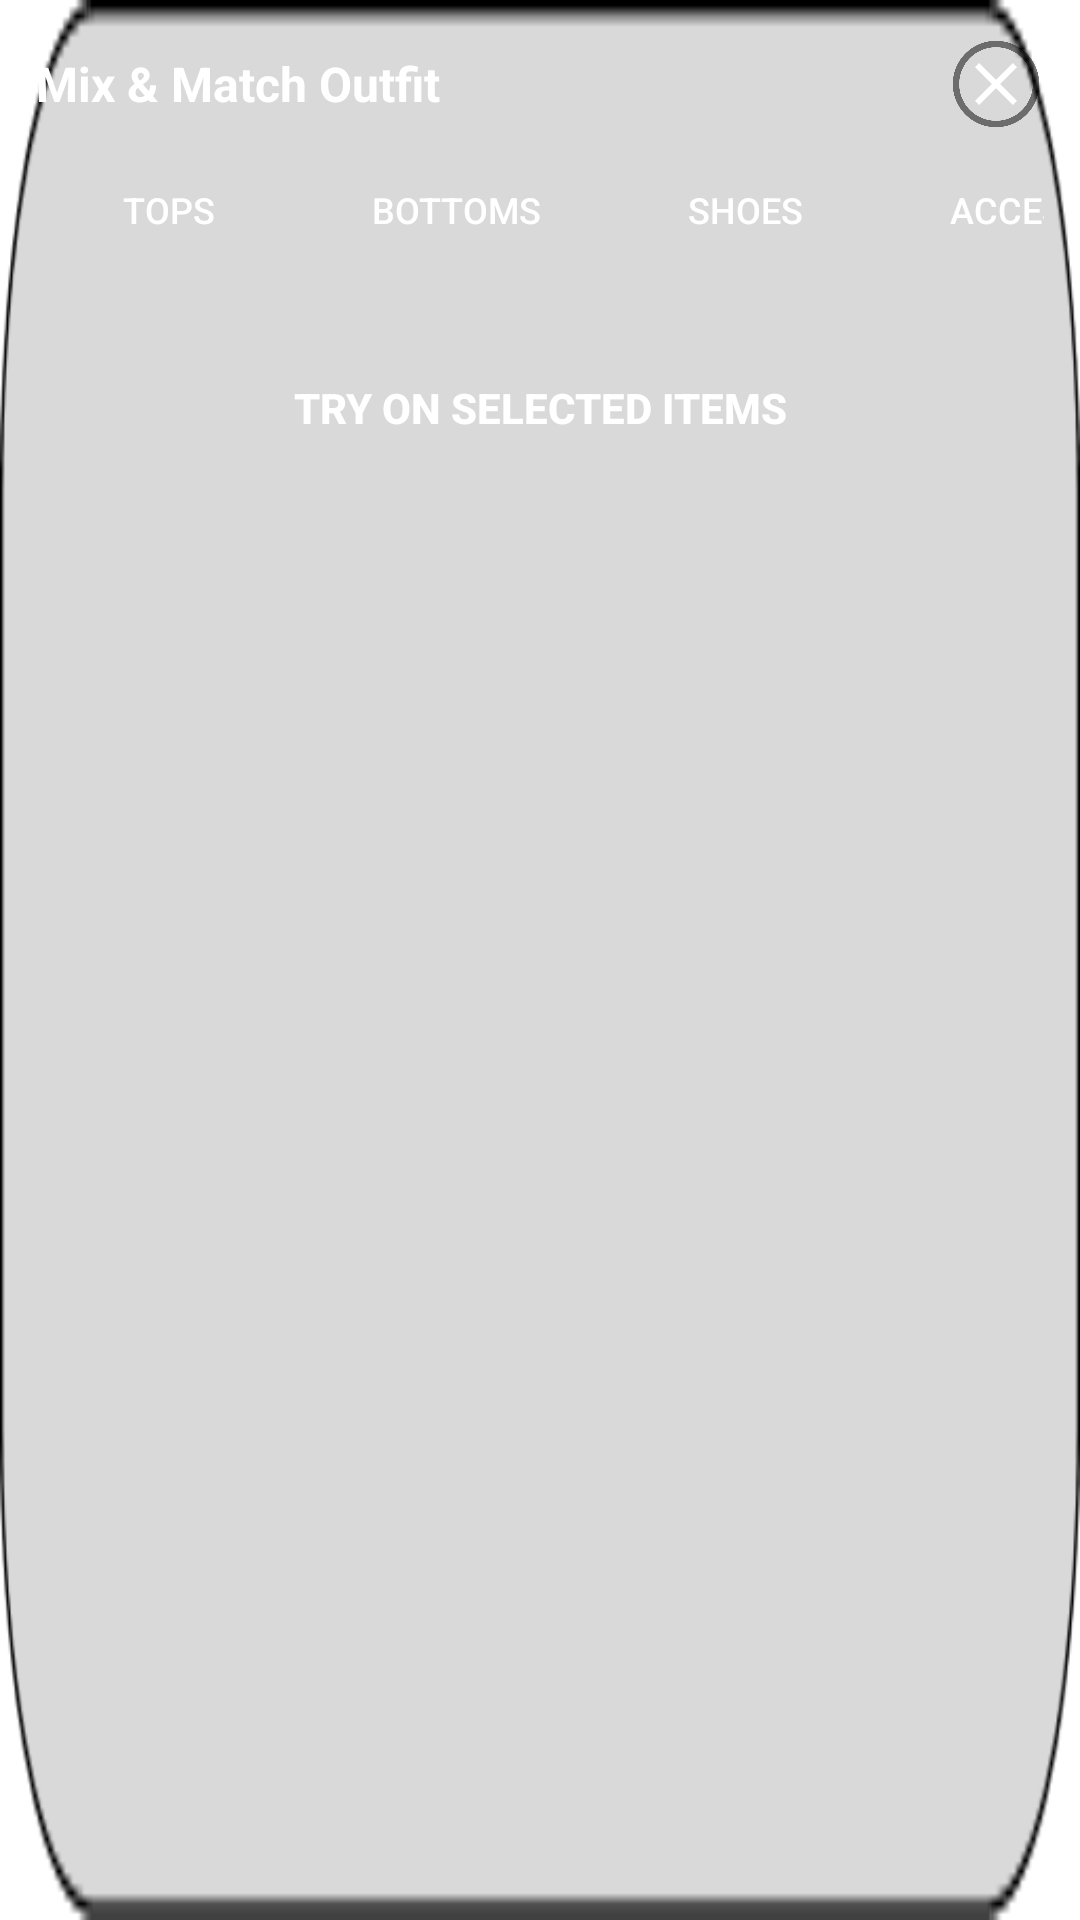

Where icons sit on this 1080*1920 app screen, as {"left": x1, "top": y1, "right": x2, "bottom": y2}:
close: {"left": 953, "top": 36, "right": 1044, "bottom": 132}
